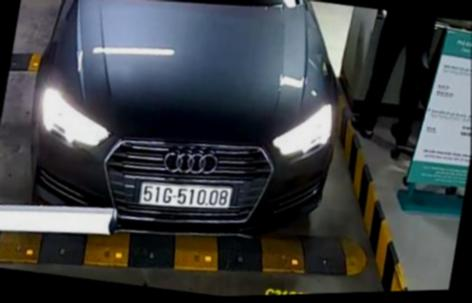License_Plate: (136, 179, 239, 220)
